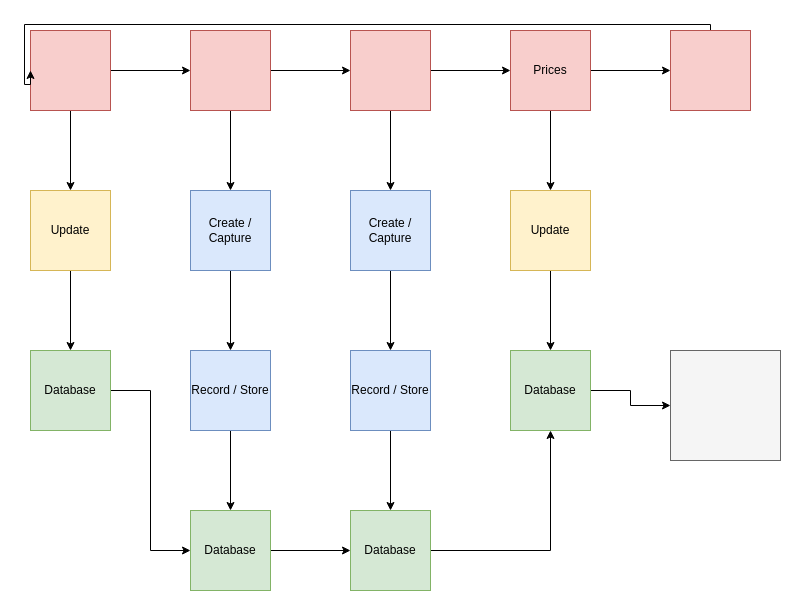
Image size: 798x608. Some labels were removed from this diagram. Each missing label, with the centre of its shape:
"Basket" goes at [710,70].
"Catalogue of Books" goes at [70,70].
"Payments" goes at [230,70].
"Recomendations" goes at [725,405].
"Shipping Details" goes at [390,70].
